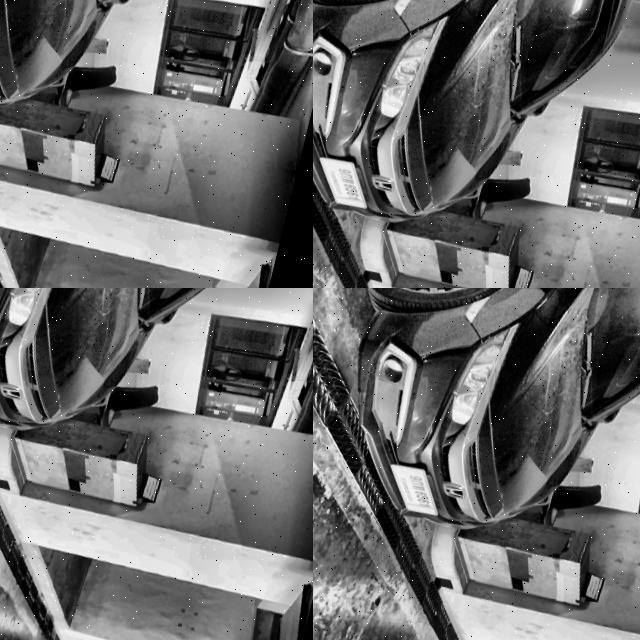license-plate: (376, 459, 452, 527)
